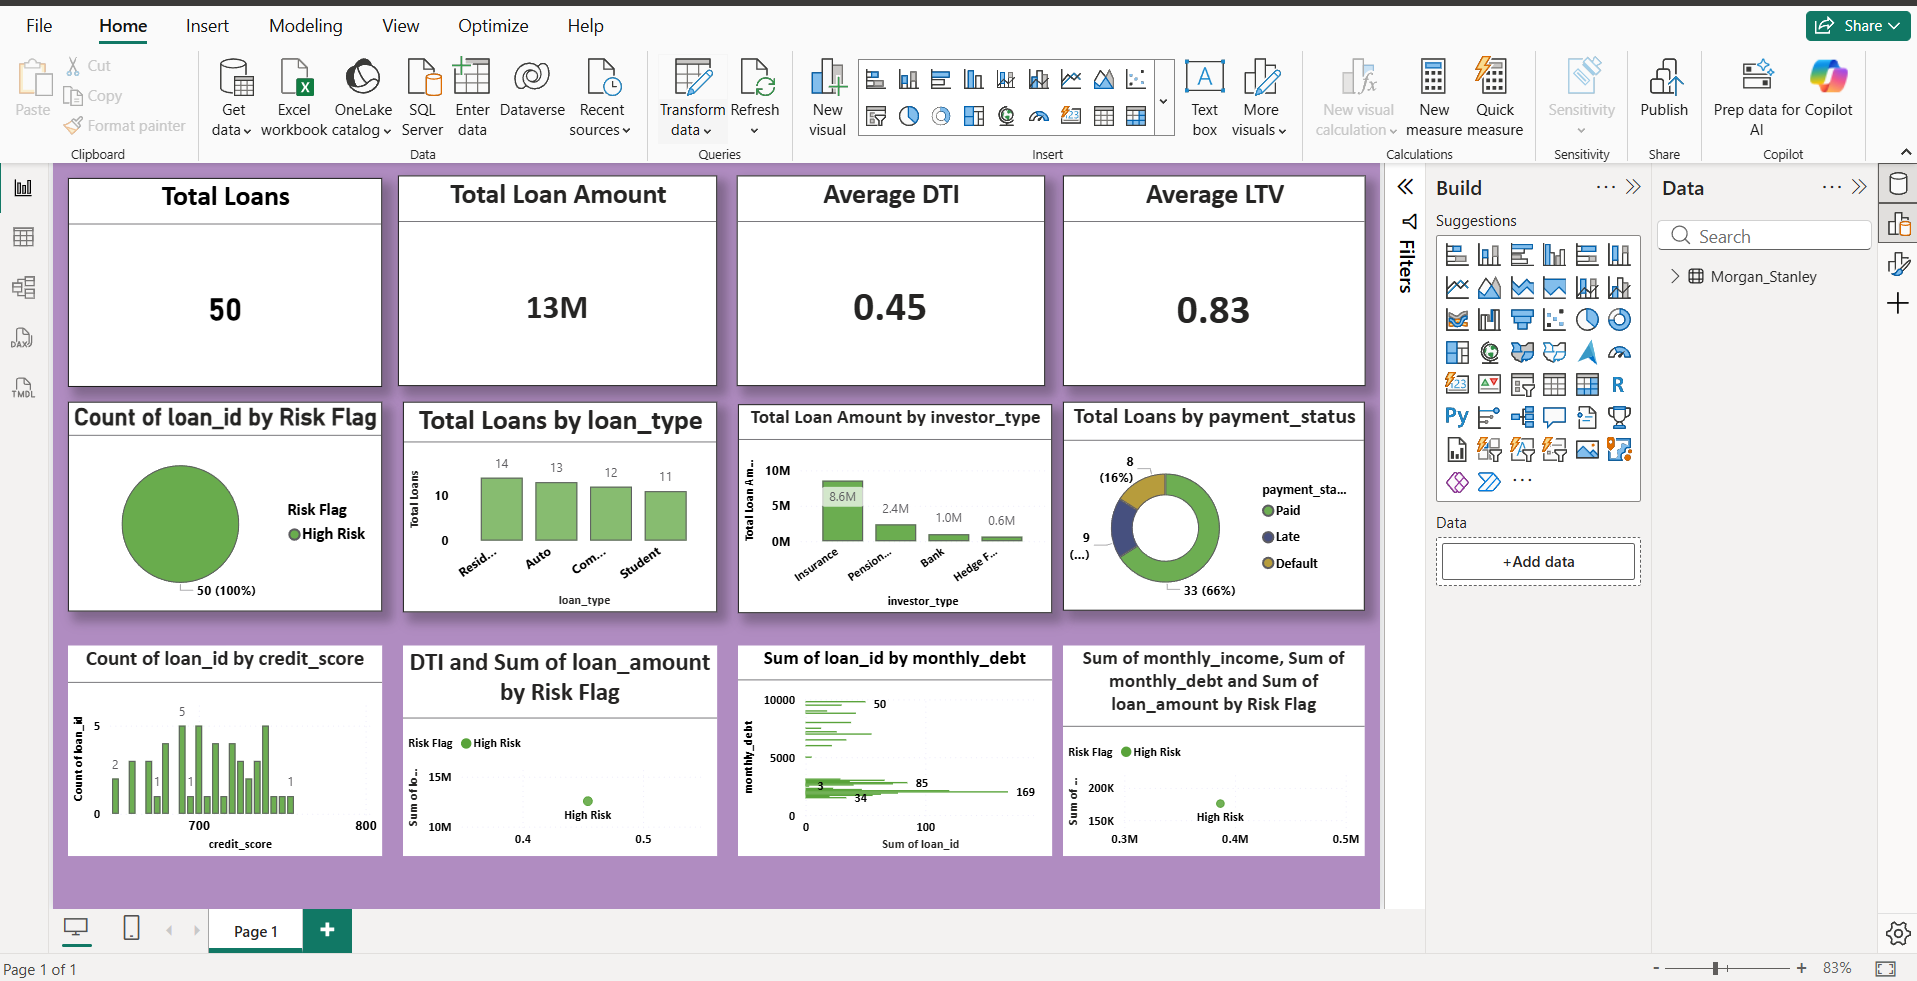

The page's visual inventory and layout, read from the dashboard file:
{"tool":"powerbi","page":{"name":"Page 1","canvas":[1280,720],"ordinal":0},"visuals":[{"type":"card","title":"Total Loans","fields":{"Values":["Morgan_Stanley.Total Loans"]},"box":[14.4,14.4,303,202],"z":0},{"type":"card","title":"Total Loan Amount","fields":{"Values":["Morgan_Stanley.Total Loan Amount"]},"box":[332.8,12.5,307.9,202.9],"z":1000},{"type":"card","title":"Average DTI","fields":{"Values":["Morgan_Stanley.Avg DTI"]},"box":[660.3,12.5,297.2,202.9],"z":2000},{"type":"card","title":"Average LTV","fields":{"Values":["Morgan_Stanley.Avg LTV"]},"box":[975.3,12.5,291.9,202.9],"z":3000},{"type":"pieChart","fields":{"Category":["Morgan_Stanley.Risk Flag"],"Y":["CountNonNull(Morgan_Stanley.loan_id)"]},"box":[14.5,230.4,302.8,202.7],"z":4000},{"type":"clusteredColumnChart","fields":{"Y":["Morgan_Stanley.Total Loans"],"Category":["Morgan_Stanley.loan_type"]},"box":[337.6,230.8,303,203.4],"z":5000},{"type":"lineClusteredColumnComboChart","fields":{"Category":["Morgan_Stanley.investor_type"],"Y":["Morgan_Stanley.Total Loan Amount"]},"box":[660.8,232.3,303,202],"z":6000},{"type":"donutChart","fields":{"Category":["Morgan_Stanley.payment_status"],"Y":["Morgan_Stanley.Total Loans"]},"box":[975.3,230.8,291.4,202],"z":7000},{"type":"clusteredColumnChart","fields":{"Category":["Morgan_Stanley.credit_score"],"Y":["CountNonNull(Morgan_Stanley.loan_id)"]},"box":[14,465.5,303,203],"z":8000},{"type":"scatterChart","fields":{"X":["Morgan_Stanley.DTI"],"Y":["Sum(Morgan_Stanley.loan_amount)"],"Series":["Morgan_Stanley.Risk Flag"]},"box":[338,466,303,203],"z":9000},{"type":"clusteredBarChart","fields":{"Y":["Sum(Morgan_Stanley.loan_id)"],"Category":["Morgan_Stanley.monthly_debt","Morgan_Stanley.monthly_income"]},"box":[661,466,303,203],"z":10000},{"type":"scatterChart","fields":{"X":["Sum(Morgan_Stanley.monthly_income)"],"Y":["Sum(Morgan_Stanley.monthly_debt)"],"Series":["Morgan_Stanley.Risk Flag"],"Size":["Sum(Morgan_Stanley.loan_amount)"]},"box":[975,466,291,203],"z":11000}]}

Visuals, with their boxes on the page's 1280x720 design canvas (x1, y1, x2, y2). These are canvas units, not pixel positions in the 1917x981 screenshot, which may show the page scaled, cropped or inside an application window:
"Total Loans" card: (14,14,317,216)
"Total Loan Amount" card: (333,12,641,215)
"Average DTI" card: (660,12,958,215)
"Average LTV" card: (975,12,1267,215)
pieChart - Morgan_Stanley.Risk Flag x CountNonNull(Morgan_Stanley.loan_id): (14,230,317,433)
clusteredColumnChart - Morgan_Stanley.Total Loans x Morgan_Stanley.loan_type: (338,231,641,434)
lineClusteredColumnComboChart - Morgan_Stanley.investor_type x Morgan_Stanley.Total Loan Amount: (661,232,964,434)
donutChart - Morgan_Stanley.payment_status x Morgan_Stanley.Total Loans: (975,231,1267,433)
clusteredColumnChart - Morgan_Stanley.credit_score x CountNonNull(Morgan_Stanley.loan_id): (14,466,317,668)
scatterChart - Morgan_Stanley.DTI x Sum(Morgan_Stanley.loan_amount): (338,466,641,669)
clusteredBarChart - Sum(Morgan_Stanley.loan_id) x Morgan_Stanley.monthly_debt: (661,466,964,669)
scatterChart - Sum(Morgan_Stanley.monthly_income) x Sum(Morgan_Stanley.monthly_debt): (975,466,1266,669)
